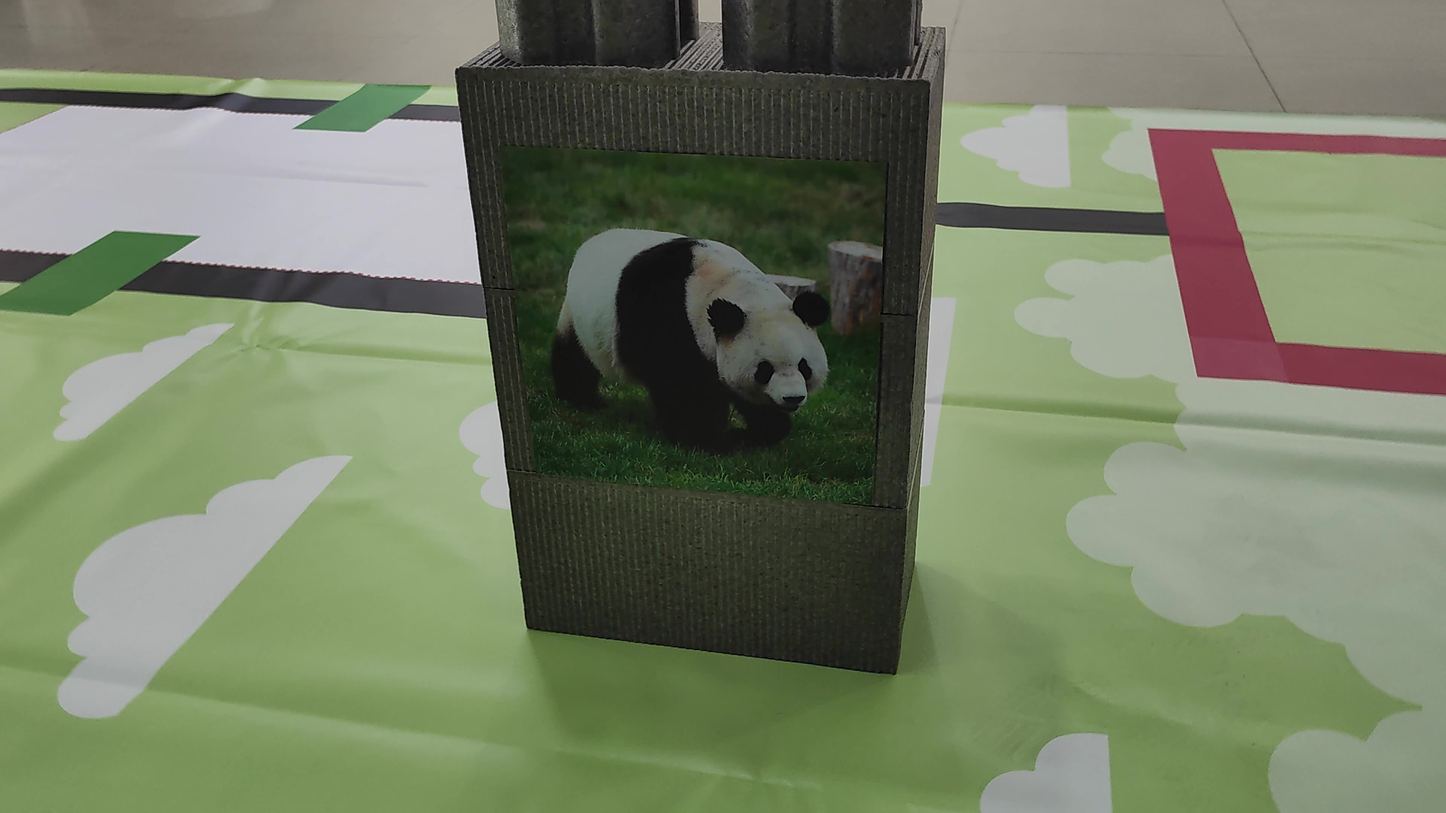panda: (511, 183, 845, 431)
